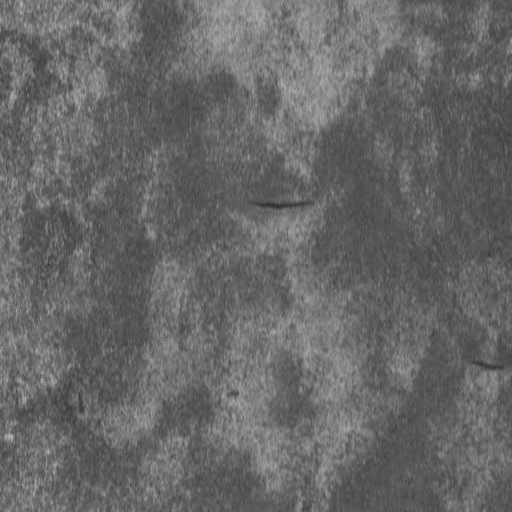hengxiangliewen: (249, 199, 318, 211), (469, 357, 504, 375)
